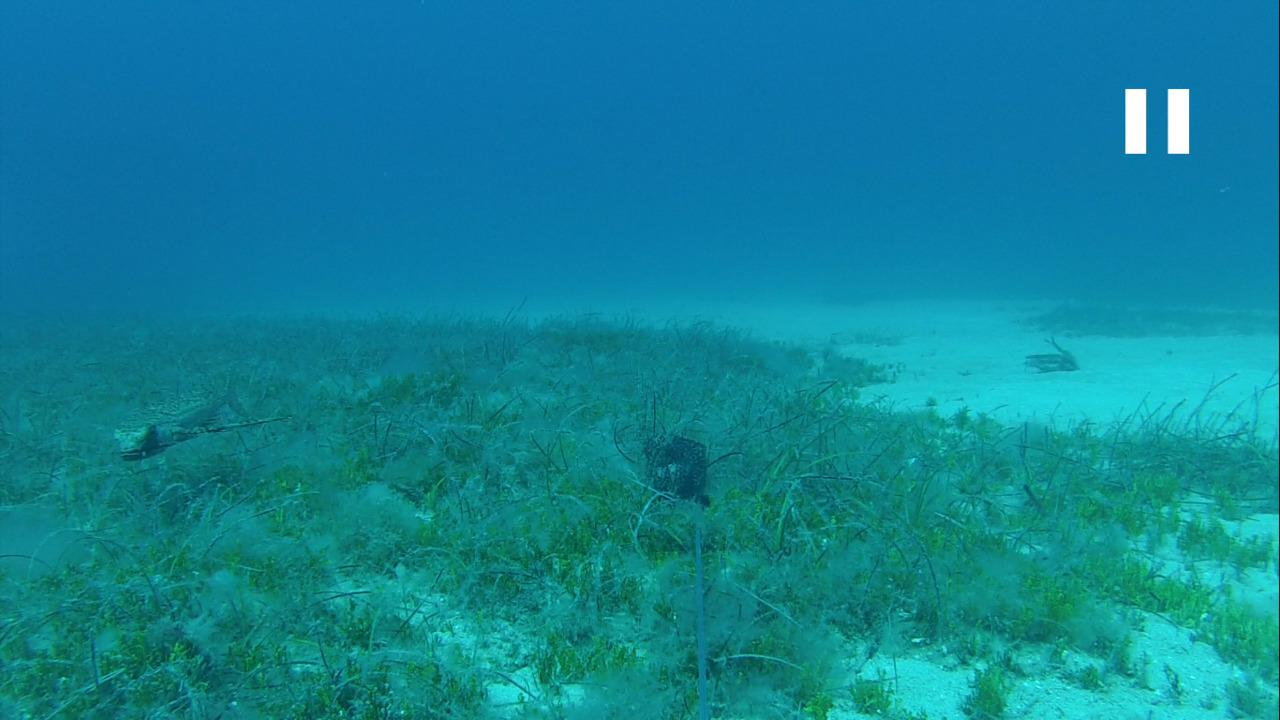dactylopterus: (106, 377, 301, 463)
